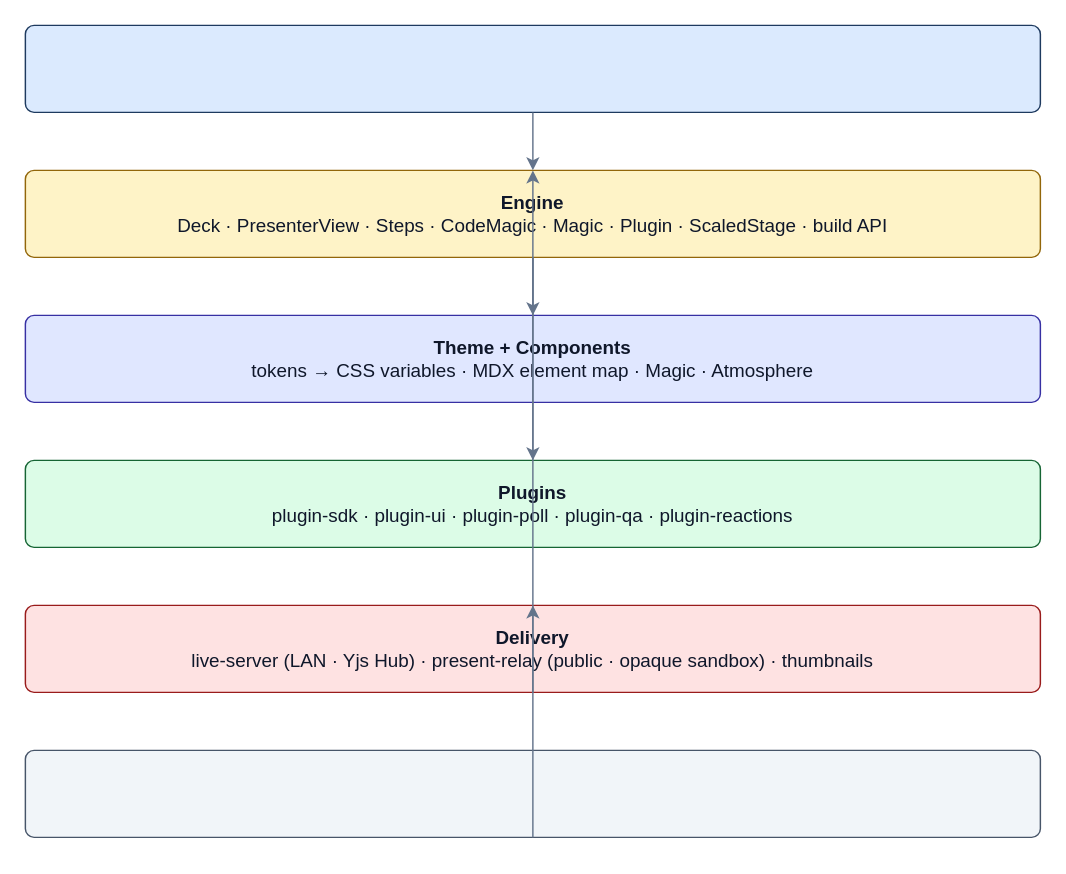
This 1066x874 diagram has some shape labels left out. The box of each missing label's shape, as (x1, y1, x2, y2) in pixels:
CLI liebstoeckel: new · build · live · relay · thumbs: (24, 749, 1040, 837)
Decks presentations/* — a brand + ordered slides + plugins: (24, 24, 1040, 112)
